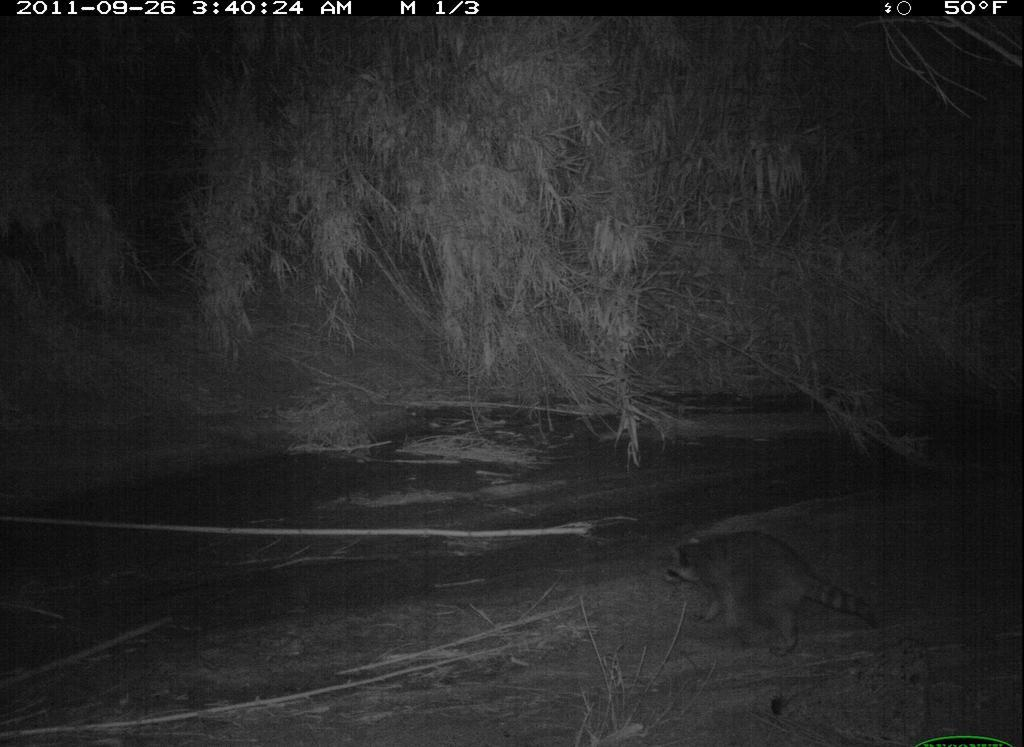raccoon: (653, 511, 884, 673)
